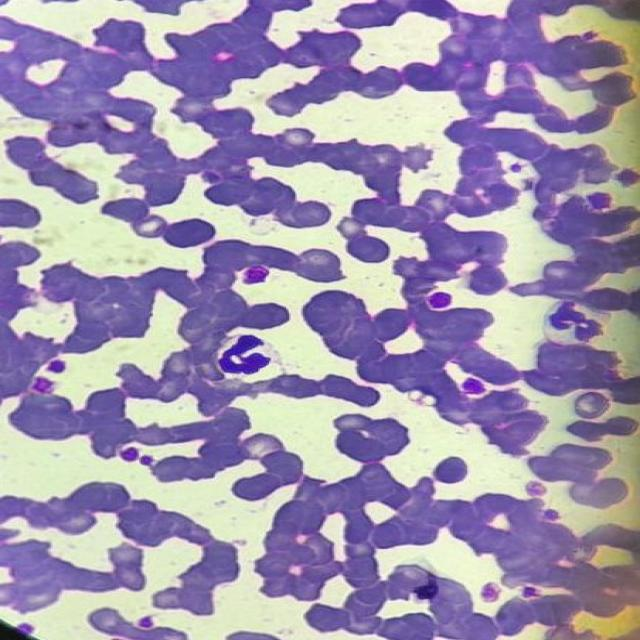Neutrofilo: (543, 302, 621, 346), (214, 333, 286, 380)
